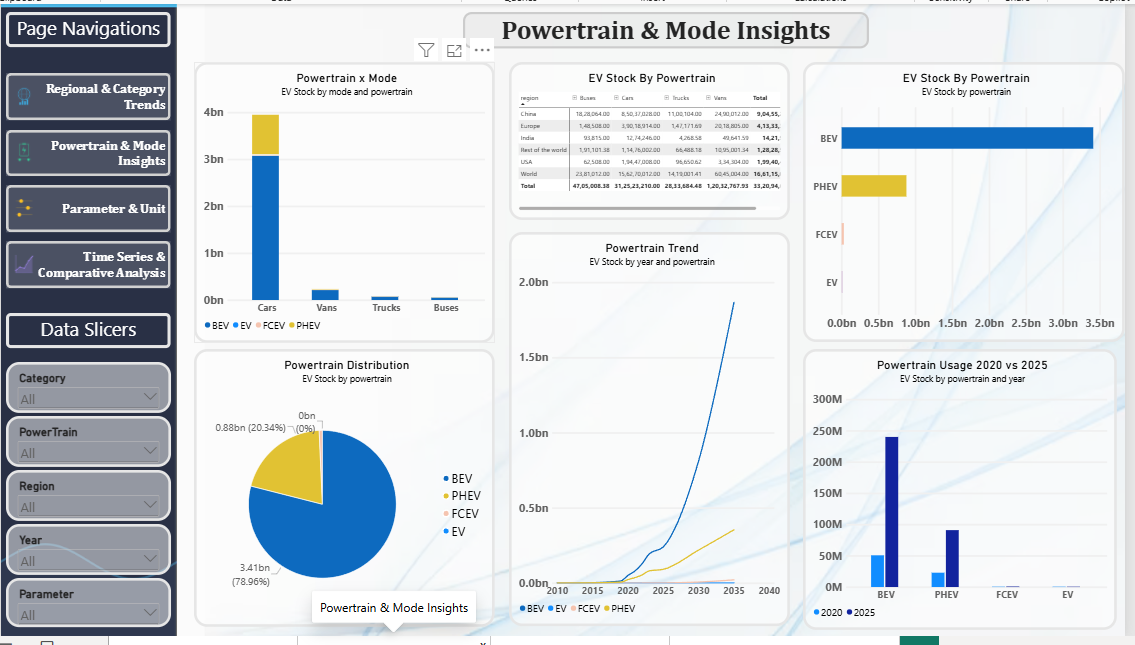

Layout of this report page (visuals, bound fields, positions):
{"tool":"powerbi","page":{"name":" Powertrain & Mode Insights ","canvas":[2560,1440],"ordinal":1},"visuals":[{"type":"textbox","box":[1052.7,18.2,925,82.5],"z":0},{"type":"pieChart","title":"Powertrain Distribution","fields":{"Category":["IEA Global EV Data 2024.powertrain"],"Y":["IEA Global EV Data 2024.EV Stock"]},"box":[440,785,685,632.5],"z":1000},{"type":"clusteredBarChart","title":"EV Stock By Powertrain","fields":{"Category":["IEA Global EV Data 2024.powertrain"],"Y":["IEA Global EV Data 2024.EV Stock"]},"box":[1827.5,132.5,732.5,637.5],"z":2000},{"type":"columnChart","title":"Powertrain x Mode ","fields":{"Category":["IEA Global EV Data 2024.mode"],"Series":["IEA Global EV Data 2024.powertrain"],"Y":["IEA Global EV Data 2024.EV Stock"]},"box":[440,132.5,685,640],"z":3000},{"type":"pivotTable","title":"EV Stock By Powertrain","fields":{"Columns":["IEA Global EV Data 2024.mode","IEA Global EV Data 2024.powertrain"],"Rows":["IEA Global EV Data 2024.region"],"Values":["Sum(IEA Global EV Data 2024.value)"]},"box":[1157.5,132.5,640,360],"z":4000},{"type":"clusteredColumnChart","title":"Powertrain Usage 2020 vs 2025","fields":{"Category":["IEA Global EV Data 2024.powertrain"],"Series":["IEA Global EV Data 2024.year"],"Y":["IEA Global EV Data 2024.EV Stock"]},"box":[1827.5,785,715,640],"z":5000},{"type":"lineChart","title":"Powertrain Trend","fields":{"Category":["IEA Global EV Data 2024.year"],"Series":["IEA Global EV Data 2024.powertrain"],"Y":["IEA Global EV Data 2024.EV Stock"]},"box":[1157.5,520,640,897.5],"z":6000},{"type":"textbox","box":[12.5,17.5,375,80],"z":7000},{"type":"actionButton","box":[12.5,157.5,375,107.5],"z":8000},{"type":"actionButton","box":[12.5,287.5,375,105],"z":9000},{"type":"actionButton","box":[12.5,412.5,375,107.5],"z":10000},{"type":"actionButton","box":[12.5,540,375,107.5],"z":11000},{"type":"textbox","box":[11.4,704.1,375,80],"z":12000},{"type":"slicer","fields":{"Values":["IEA Global EV Data 2024.category"]},"box":[11.4,815.7,375.9,116.2],"z":13000},{"type":"slicer","fields":{"Values":["IEA Global EV Data 2024.powertrain"]},"box":[11.4,938.7,375.9,116.2],"z":14000},{"type":"slicer","fields":{"Values":["IEA Global EV Data 2024.region"]},"box":[11.4,1061.8,375.9,116.2],"z":15000},{"type":"slicer","fields":{"Values":["IEA Global EV Data 2024.year"]},"box":[11.4,1184.8,375.9,116.2],"z":16000},{"type":"slicer","fields":{"Values":["IEA Global EV Data 2024.parameter"]},"box":[11.4,1307.8,375.9,111.6],"z":17000}]}

Visuals, with their boxes on the page's 2560x1440 design canvas (x1, y1, x2, y2). These are canvas units, not pixel positions in the 1135x645 screenshot, which may show the page scaled, cropped or inside an application window:
textbox: BBox(1053, 18, 1978, 101)
"Powertrain Distribution" pieChart: BBox(440, 785, 1125, 1418)
"EV Stock By Powertrain" clusteredBarChart: BBox(1828, 132, 2560, 770)
"Powertrain x Mode " columnChart: BBox(440, 132, 1125, 772)
"EV Stock By Powertrain" pivotTable: BBox(1158, 132, 1798, 492)
"Powertrain Usage 2020 vs 2025" clusteredColumnChart: BBox(1828, 785, 2542, 1425)
"Powertrain Trend" lineChart: BBox(1158, 520, 1798, 1418)
textbox: BBox(12, 18, 388, 98)
actionButton: BBox(12, 158, 388, 265)
actionButton: BBox(12, 288, 388, 392)
actionButton: BBox(12, 412, 388, 520)
actionButton: BBox(12, 540, 388, 648)
textbox: BBox(11, 704, 386, 784)
slicer - IEA Global EV Data 2024.category: BBox(11, 816, 387, 932)
slicer - IEA Global EV Data 2024.powertrain: BBox(11, 939, 387, 1055)
slicer - IEA Global EV Data 2024.region: BBox(11, 1062, 387, 1178)
slicer - IEA Global EV Data 2024.year: BBox(11, 1185, 387, 1301)
slicer - IEA Global EV Data 2024.parameter: BBox(11, 1308, 387, 1419)
